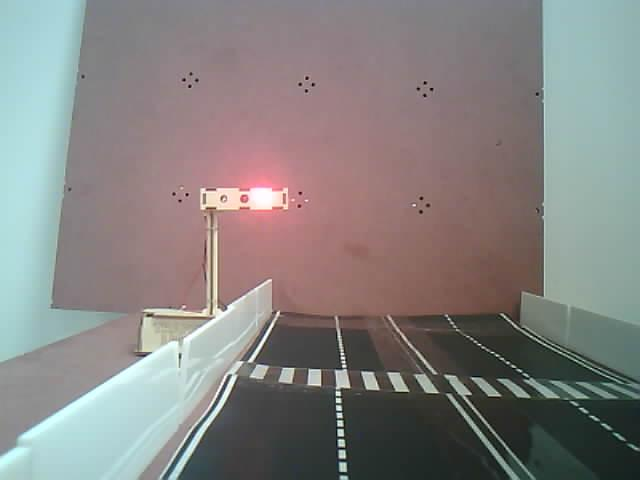crosswalk: (212, 338, 640, 413)
red: (232, 178, 306, 229)
